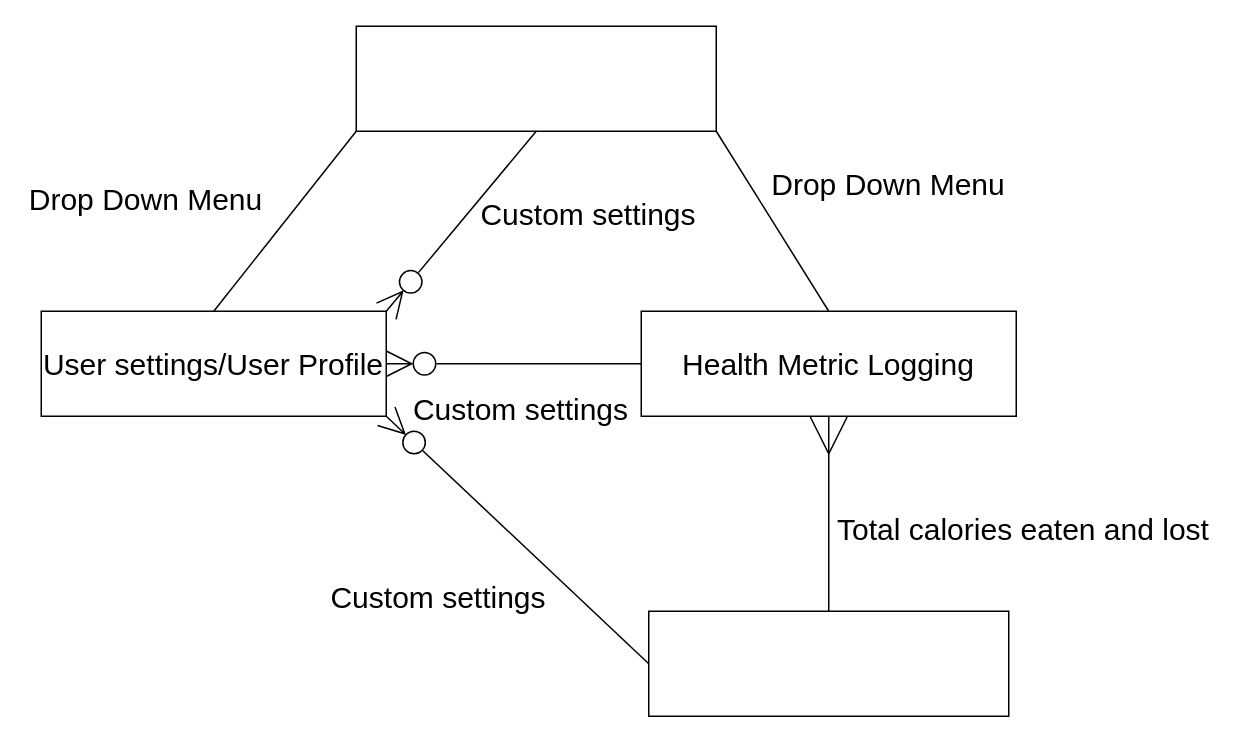
Some shapes in this 1236 by 743 pixel diagram are drawn without their labels. Each missing label, with the box of its shape:
Calorie Tracker: (647, 610, 1009, 716)
User Login/User Home: (355, 25, 716, 131)
